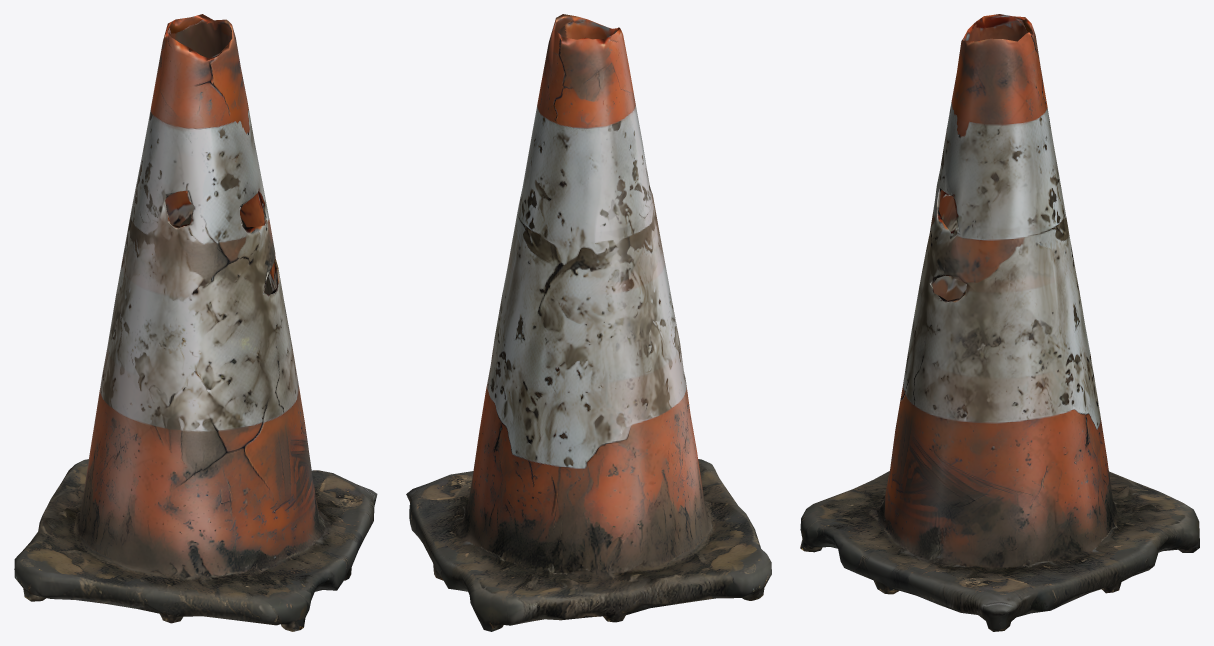
Rendered from scrap_Cone.fbx.
3 renders of one model, left to right at view 1: azimuth 30°, elevation 25°; view 2: azimuth 150°, elevation 25°; view 3: azimuth 270°, elevation 25°, orthographic.
Parts seen in each view (by area): view 1: input; view 2: input; view 3: input.
Part boxes in pixels (x1,y1,x2,y2): input: (14, 14, 377, 631); input: (406, 14, 771, 631); input: (800, 14, 1199, 631).
Size of the model in its own units: 68.74 by 99.65 by 68.5.
1 material, 1 textured.
